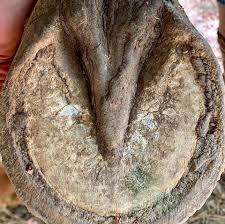horsesole: (1, 1, 225, 224)
